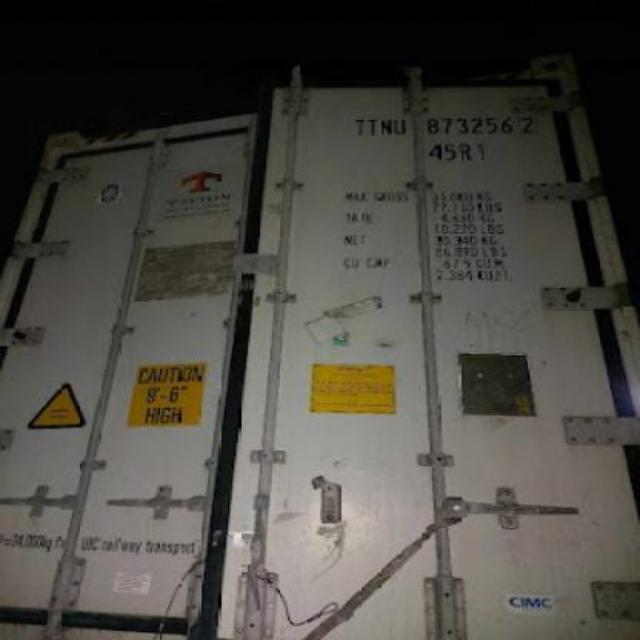2: (516, 110, 540, 136), (468, 110, 482, 140)
3: (456, 112, 468, 142)
5: (482, 112, 498, 142)
6: (498, 108, 514, 142)
7: (440, 112, 452, 138)
8: (426, 112, 439, 140)
N: (378, 113, 392, 143)
T: (350, 109, 366, 141), (368, 115, 378, 142)
U: (392, 111, 406, 143)
